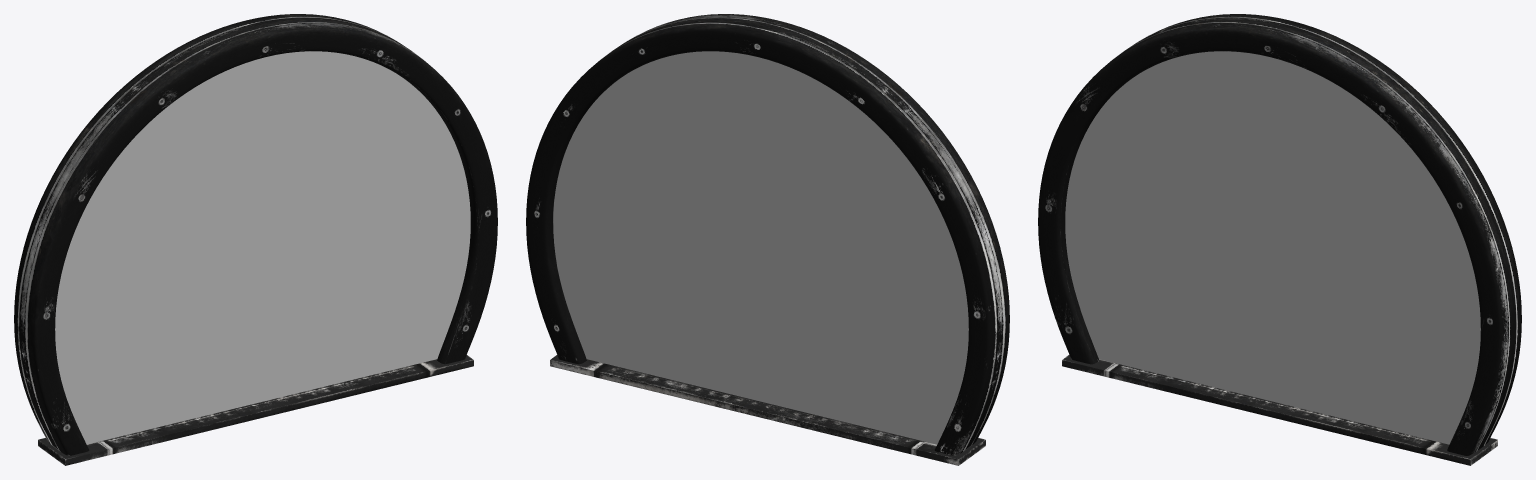
3 views of the same model, side by side, from view 1: azimuth 30°, elevation 25°; view 2: azimuth 150°, elevation 25°; view 3: azimuth 330°, elevation 25° (orthographic).
Parts seen in each view (by area): view 1: Door_Right, Door _Left, polySurface2, polySurface1; view 2: Door_Right, Door _Left, polySurface2, polySurface1; view 3: Door _Left, Door_Right, polySurface2, polySurface1.
Part boxes in pixels (x1=…): Door_Right: x1=259, y1=51, x2=470, y2=402; Door _Left: x1=55, y1=59, x2=259, y2=444; polySurface2: x1=14, y1=14, x2=497, y2=455; polySurface1: x1=38, y1=355, x2=473, y2=465; Door_Right: x1=553, y1=51, x2=764, y2=402; Door _Left: x1=764, y1=59, x2=968, y2=444; polySurface2: x1=526, y1=14, x2=1009, y2=455; polySurface1: x1=550, y1=355, x2=985, y2=465; Door _Left: x1=1065, y1=51, x2=1276, y2=402; Door_Right: x1=1276, y1=59, x2=1480, y2=444; polySurface2: x1=1038, y1=14, x2=1521, y2=455; polySurface1: x1=1062, y1=354, x2=1497, y2=465.
Bounding box in the file's own units: 193 × 150 × 19.68.
